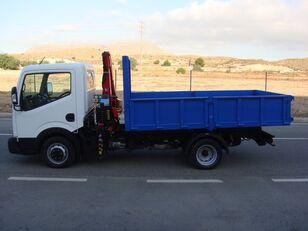vehicle: (8, 51, 294, 170)
